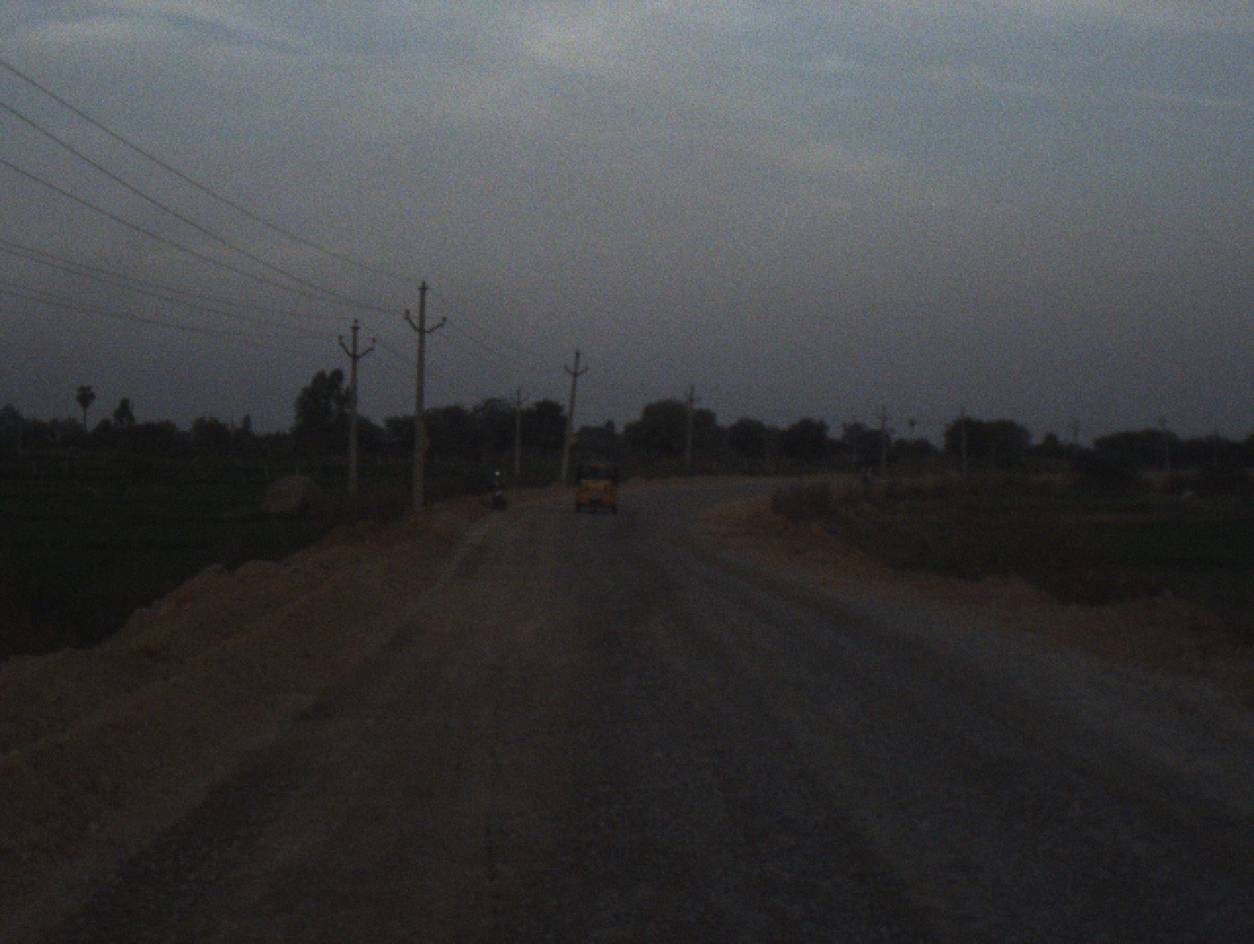autorickshaw: (572, 447, 621, 517)
motorcycle: (483, 468, 508, 509)
